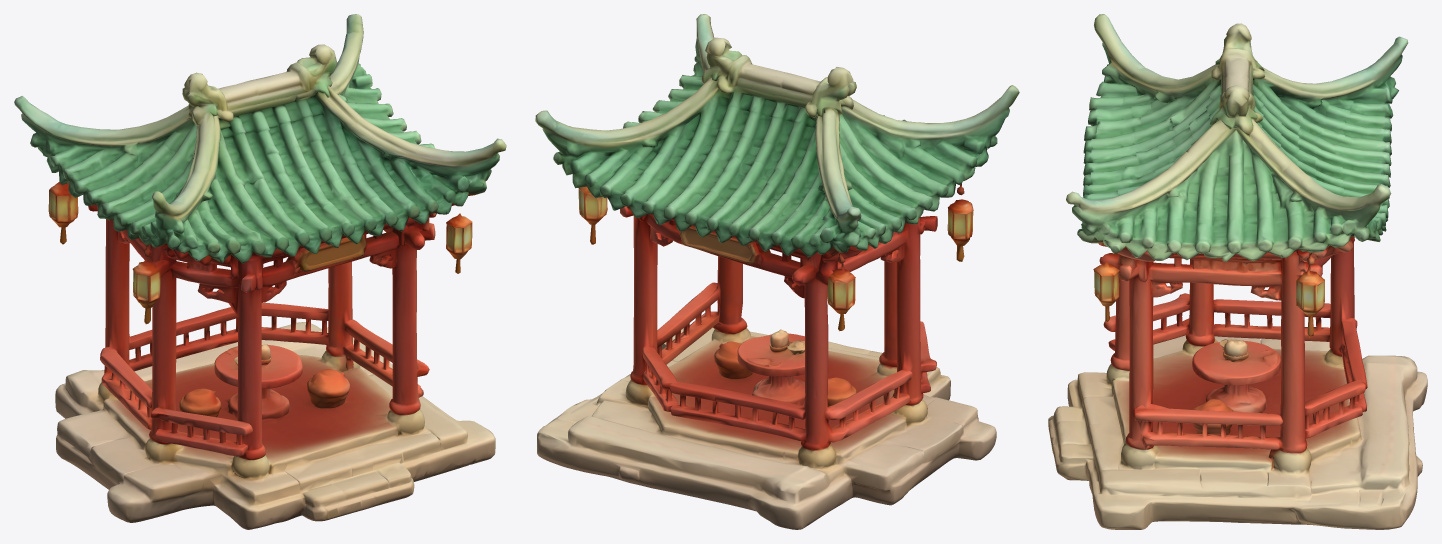
File: scholar-desktop.glb
3 views of the same model, side by side, from view 1: azimuth 30°, elevation 25°; view 2: azimuth 150°, elevation 25°; view 3: azimuth 270°, elevation 25° (orthographic). The views are drawn at different scales.
Visible parts, largest first — view 1: tripo_node_8ebc80bc-dbc9-4172-9da3-00d1deb5632c; view 2: tripo_node_8ebc80bc-dbc9-4172-9da3-00d1deb5632c; view 3: tripo_node_8ebc80bc-dbc9-4172-9da3-00d1deb5632c.
Part boxes in pixels (x1,y1,x2,y2): tripo_node_8ebc80bc-dbc9-4172-9da3-00d1deb5632c: (14, 14, 506, 529); tripo_node_8ebc80bc-dbc9-4172-9da3-00d1deb5632c: (535, 14, 1019, 529); tripo_node_8ebc80bc-dbc9-4172-9da3-00d1deb5632c: (1048, 14, 1427, 529).
Bounding box in the file's own units: 0.9313 × 0.979 × 0.8558.
Materials: 1 (1 with a texture image).
